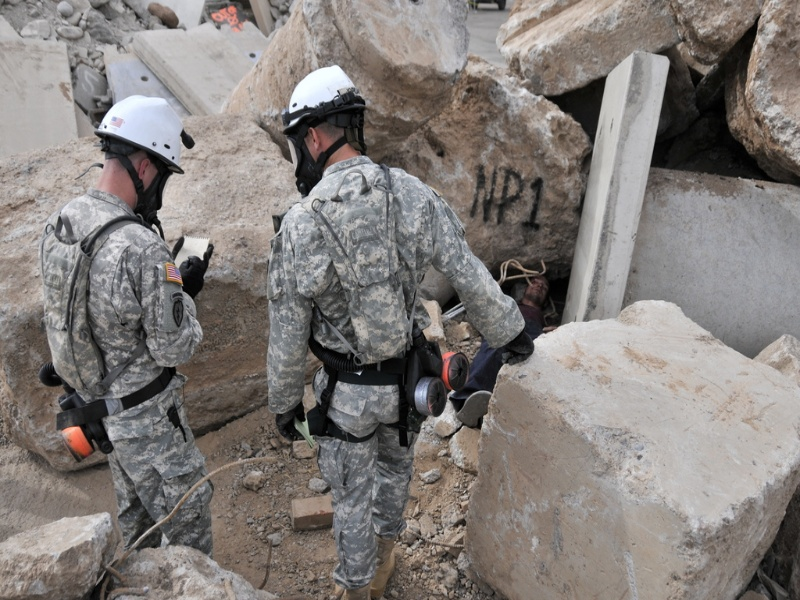Baret: (95, 93, 185, 172), (279, 64, 367, 125)
